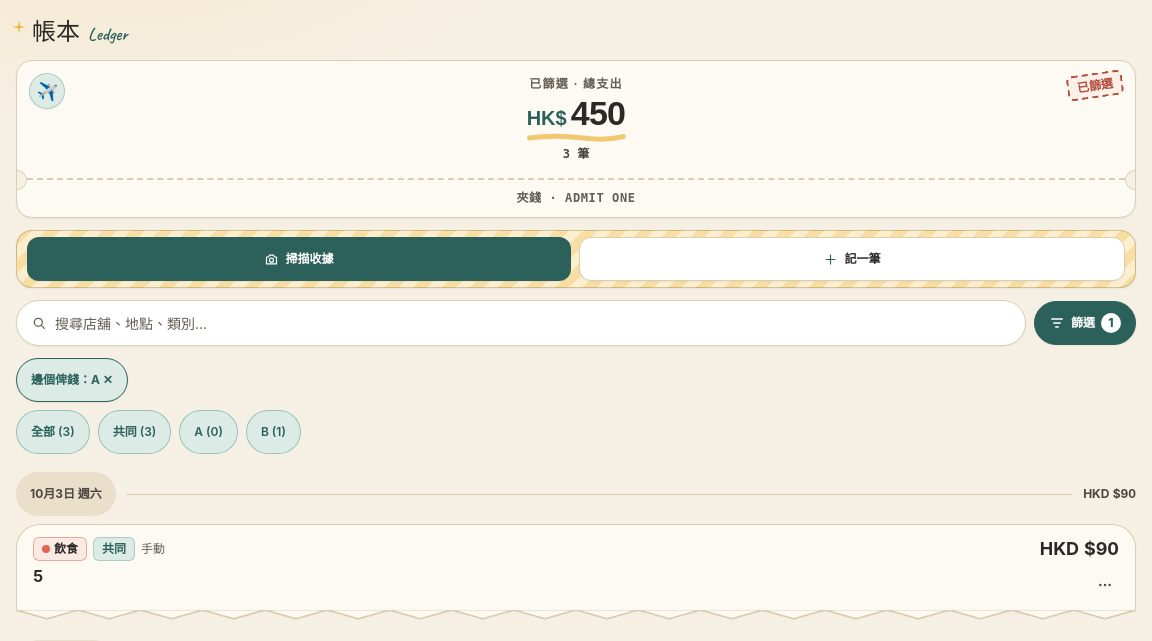
Test case: Ledger person chips › counts chips inside the payer filter and clears payer from the 全部 chip
The width and height of the screenshot is (1152, 641).
Check: the button "A (0)" is shown, box [179,410,238,454]
Click the button "B (1)": (273, 432) [246,410,301,454]
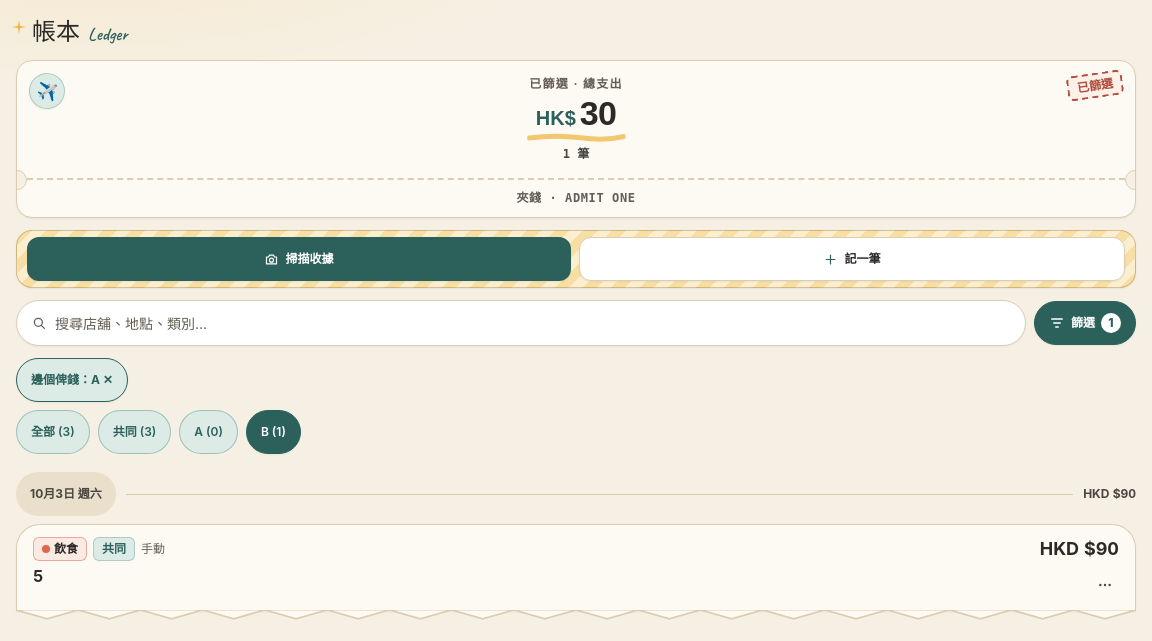
Check: the element with test id "ledger-total-amount" reads "HK$ 30", box [536,96,616,130]
Click the button "全部 (3)": (53, 432) [16,410,90,454]
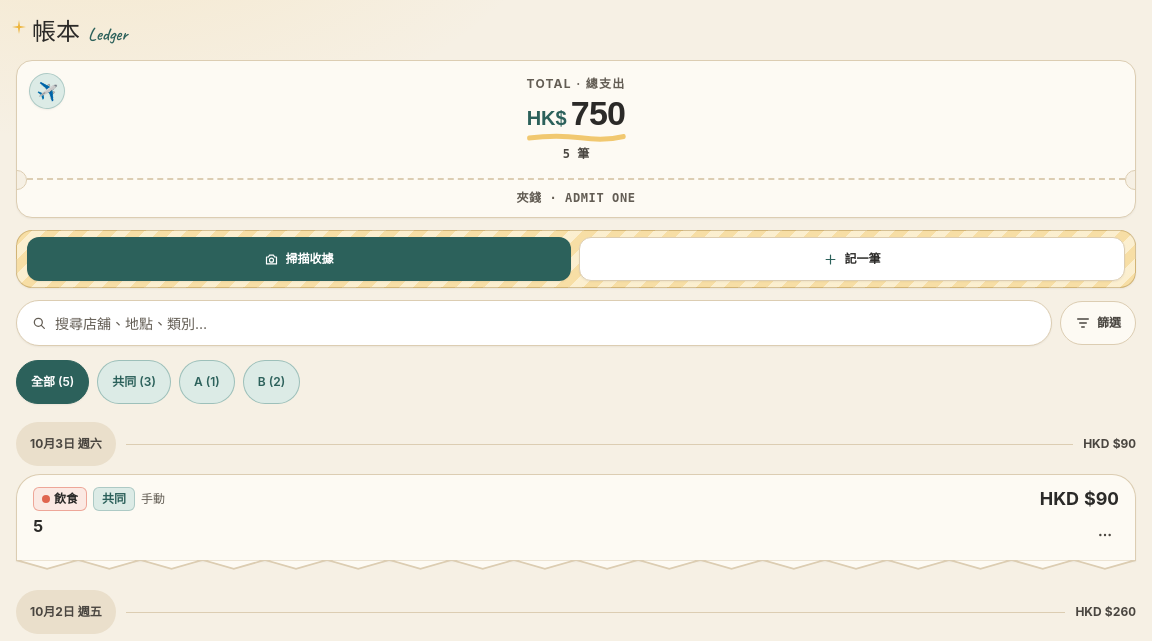
Check: the button "B (2)" is shown, box [243,360,300,404]
Check: the button "A (1)" is shown, box [179,360,235,404]
Check: the element with test id "ledger-total-amount" reads "HK$ 750", box [527,96,625,130]
